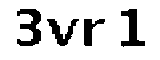1: (117, 5, 150, 54)
3: (11, 7, 46, 50)
r: (80, 12, 108, 53)
v: (46, 15, 81, 50)
